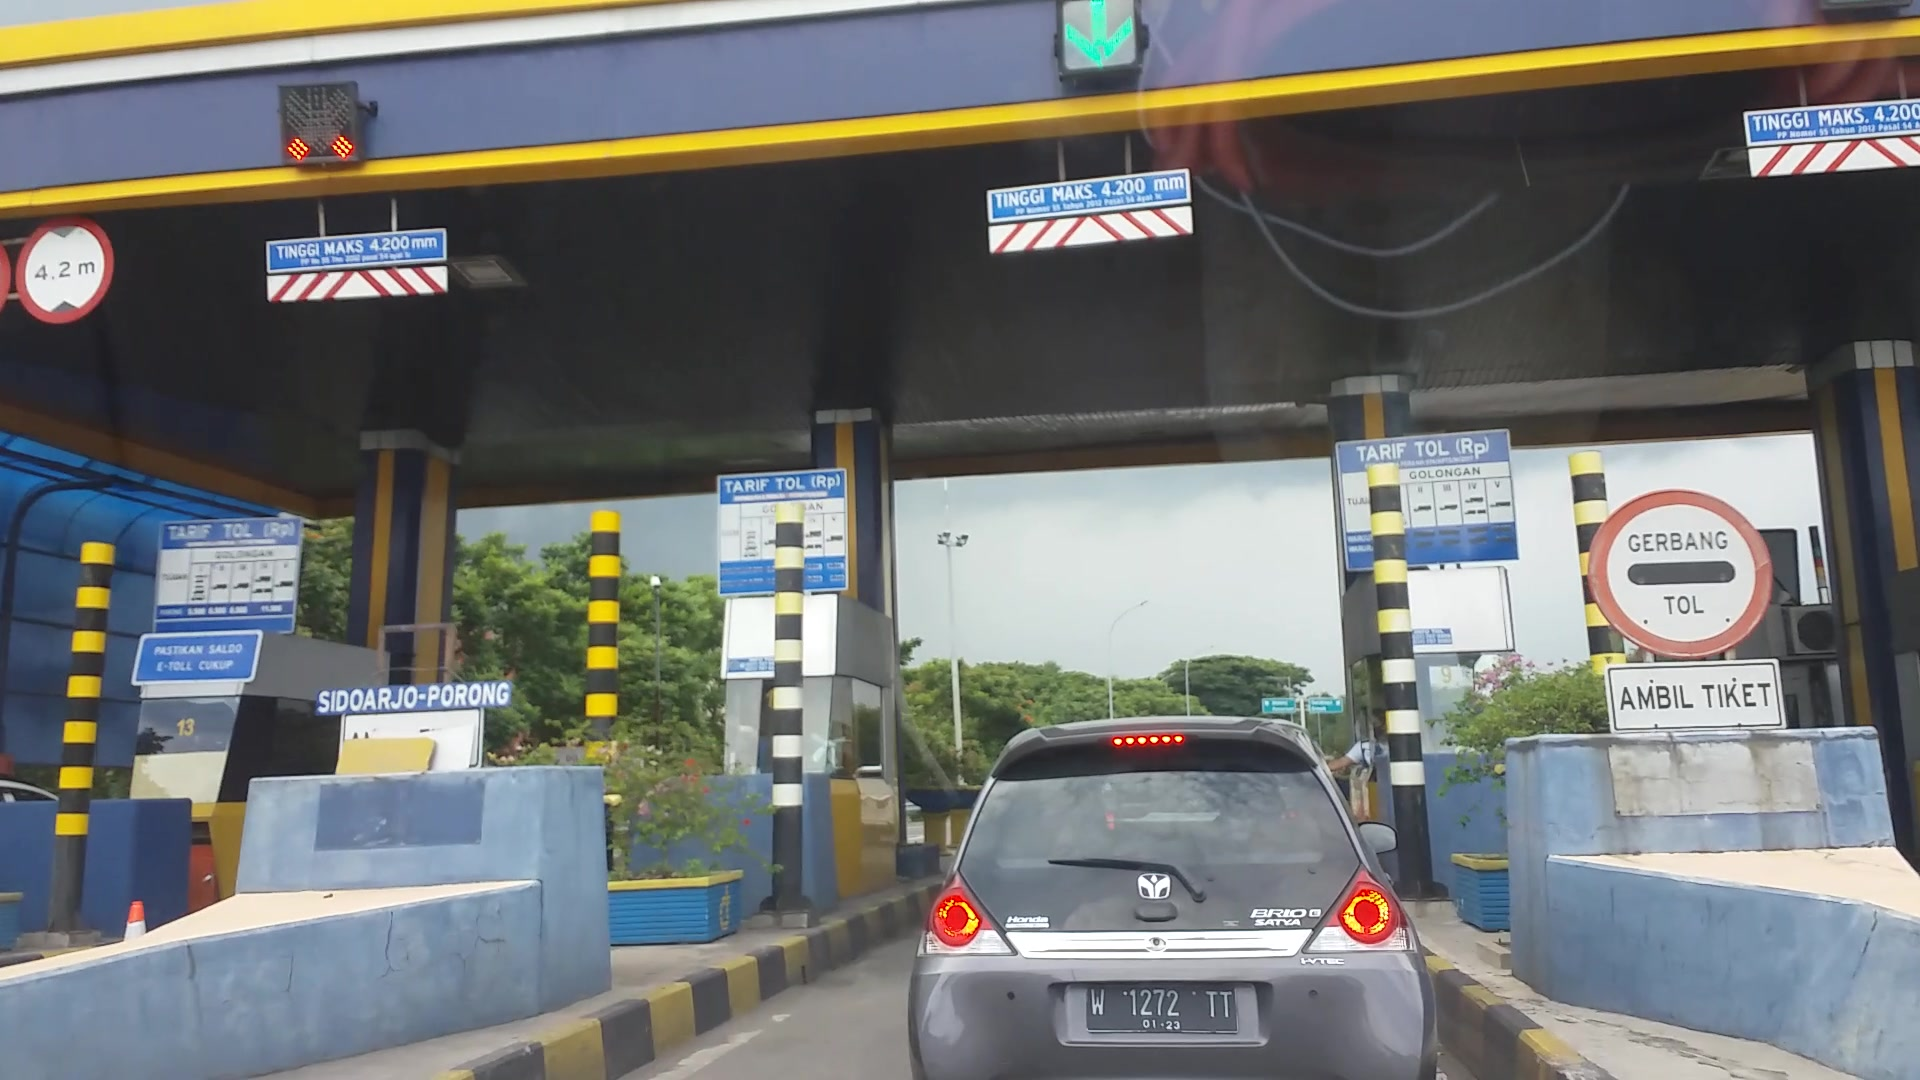plate_positive: (1085, 981, 1236, 1034)
